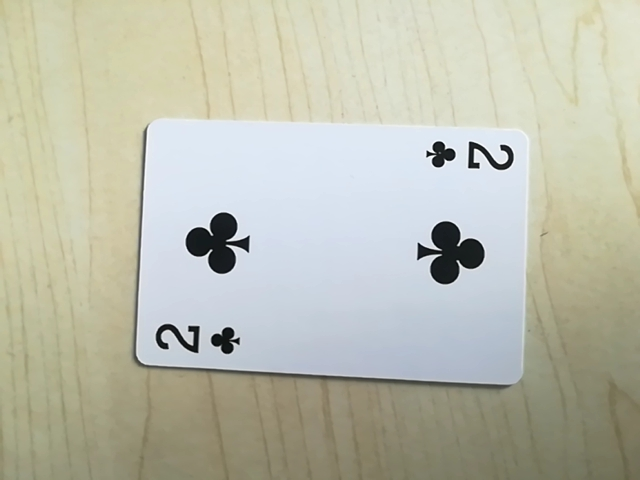mh 2: (149, 317, 246, 362), (420, 134, 518, 177)
